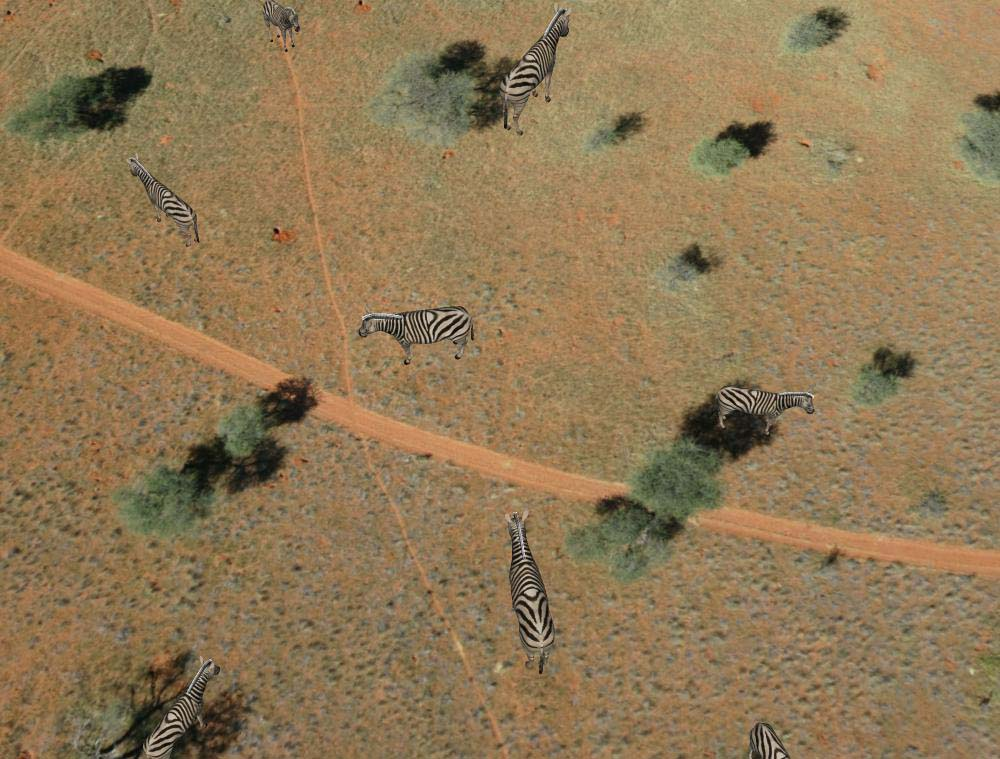zebra: (486, 508, 563, 675), (501, 4, 574, 135), (139, 654, 223, 759), (355, 305, 480, 373), (123, 151, 202, 254), (712, 380, 817, 450), (248, 1, 306, 56), (744, 715, 790, 759)
